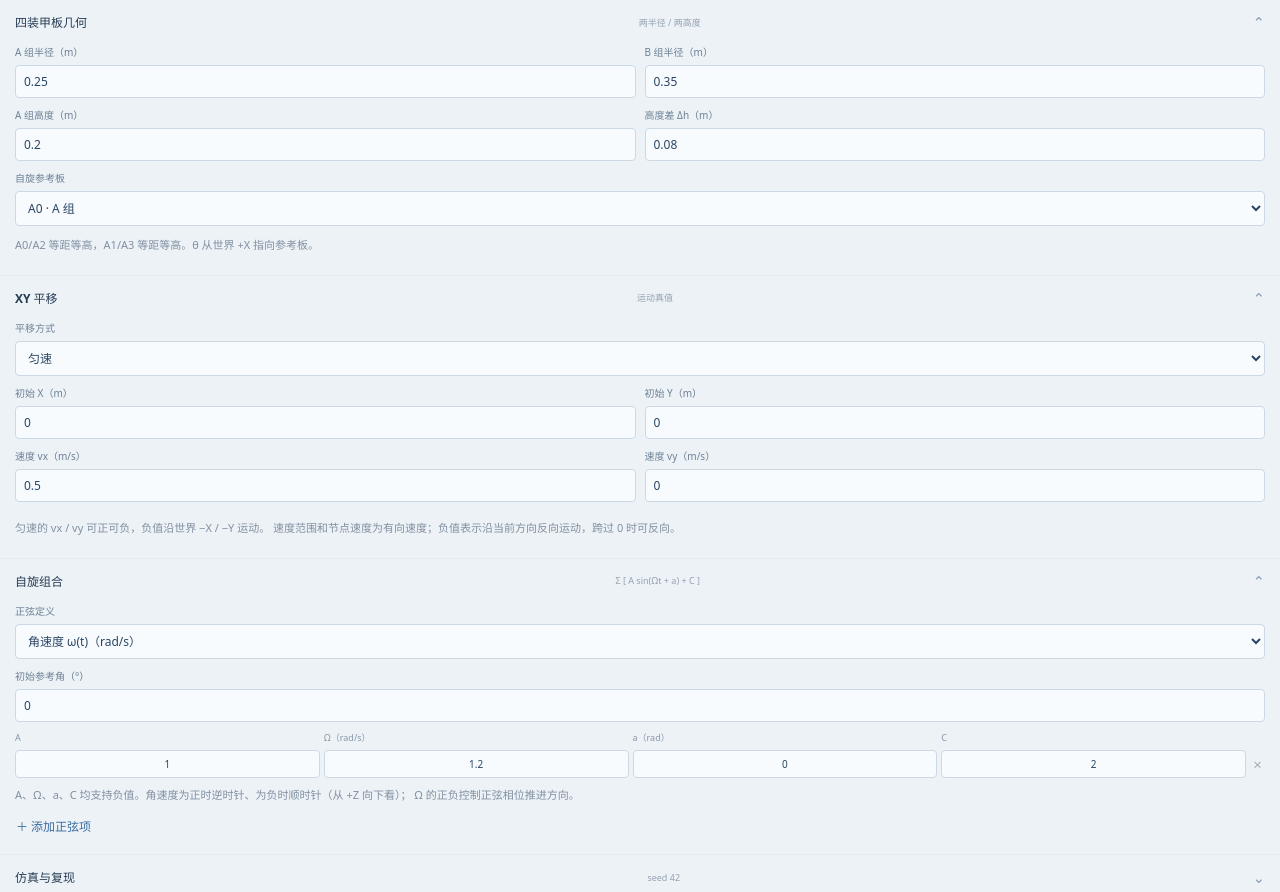
it: signed scene configuration › discards a partial input when switching to a different motion field with the same value
Replace the text in the number field labelled "速度 vx（m/s）" with "-" at (325,485), box [15, 469, 636, 502]
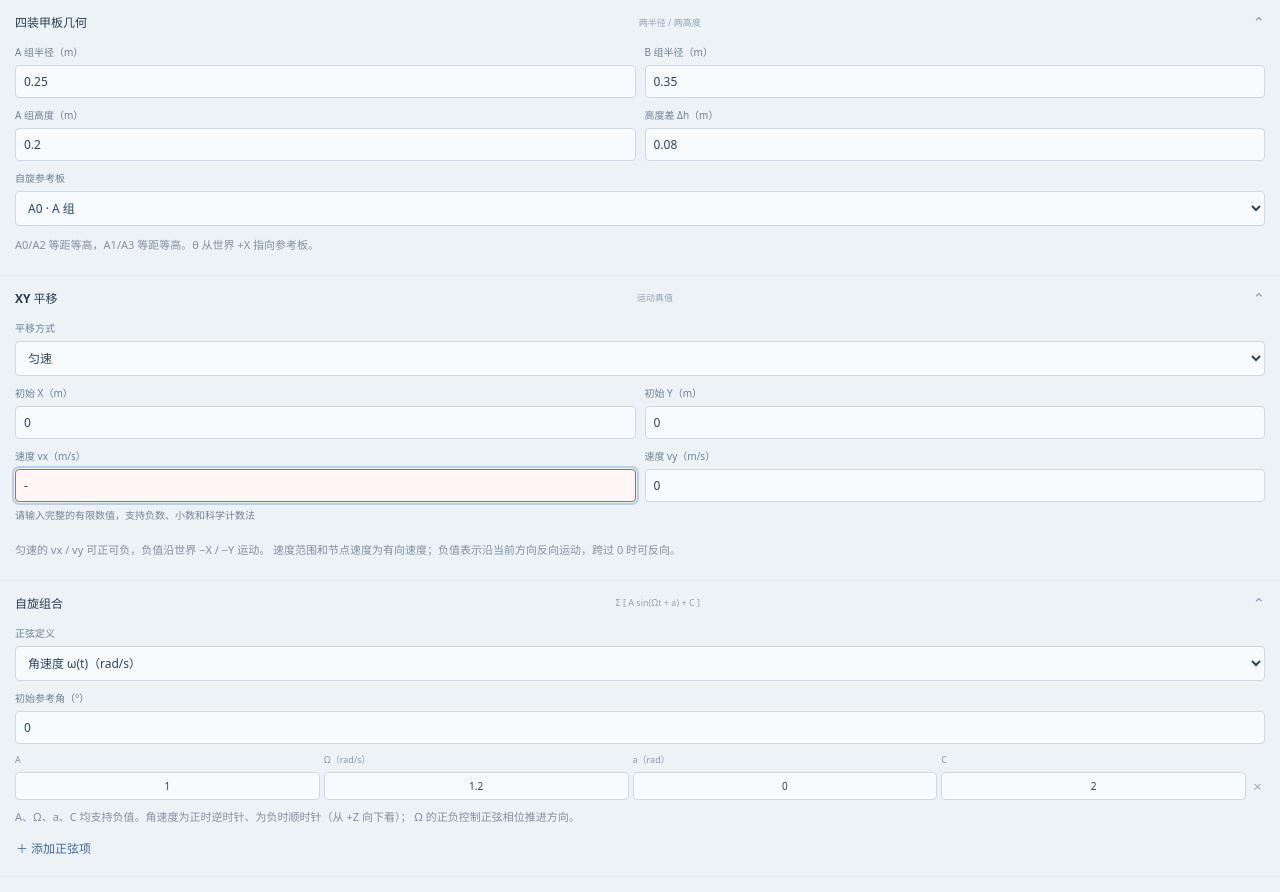
Select "范围内平滑变速" in the dropdown labelled "平移方式" at (640,358), box [15, 341, 1265, 376]
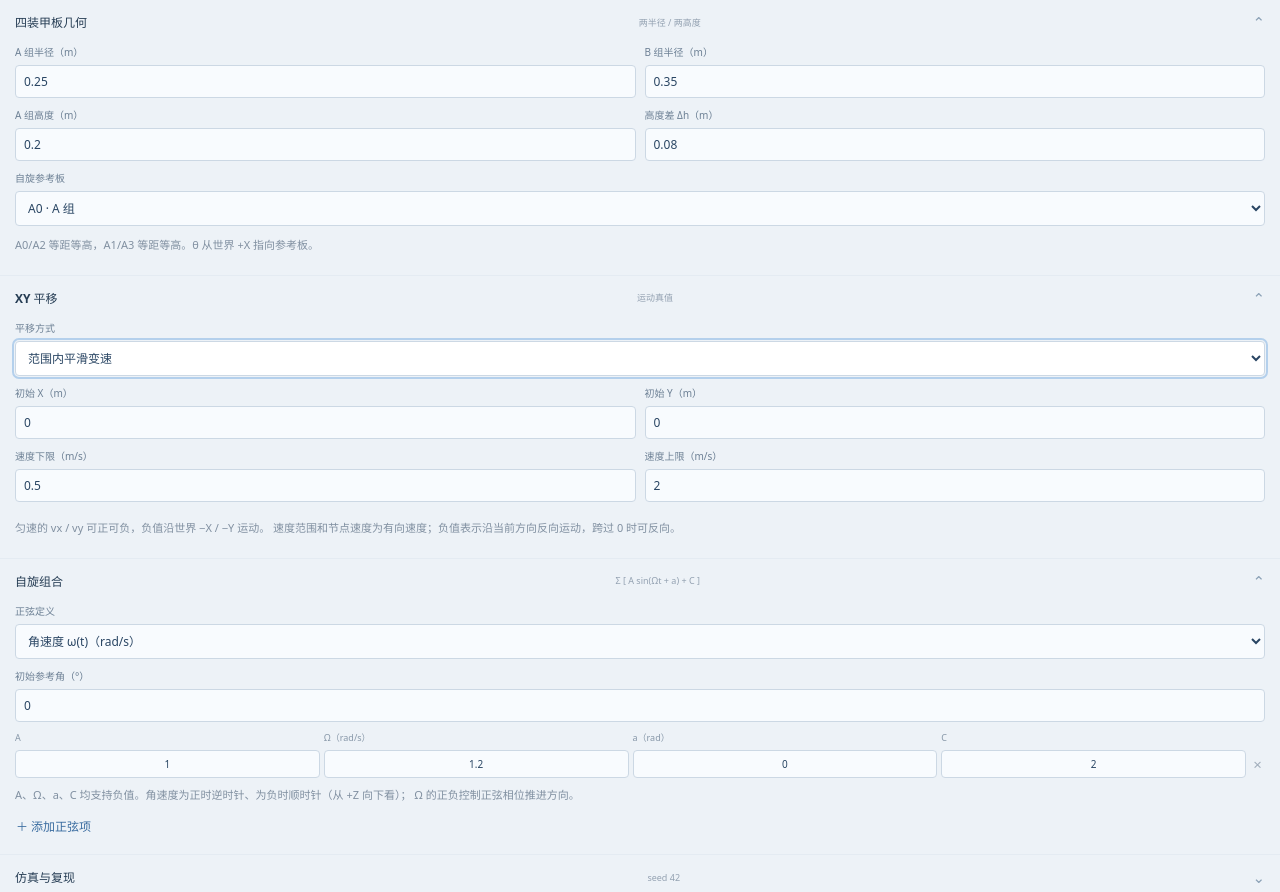
Check: the number field labelled "速度下限（m/s）" holds "0.5", box [15, 469, 636, 502]
